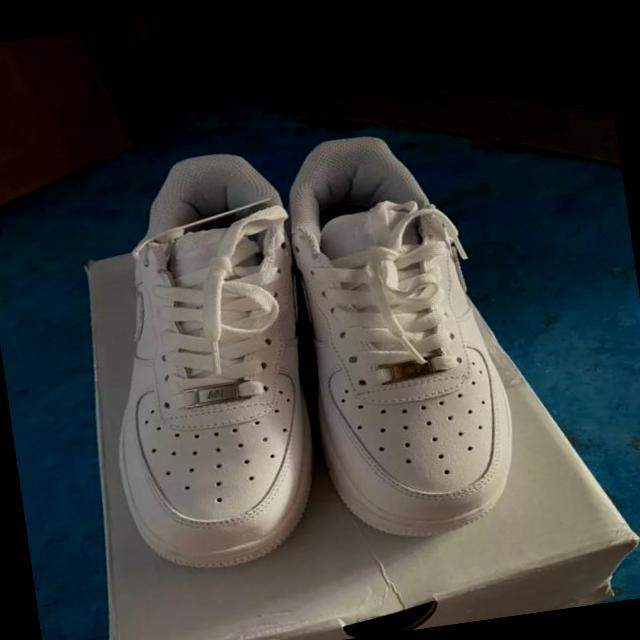nike_original_airforce: (73, 130, 344, 589), (270, 114, 534, 556)
